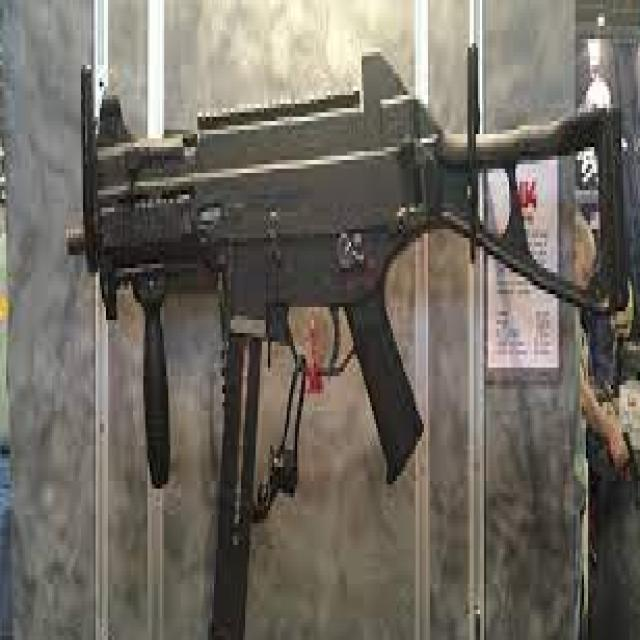Gun: (50, 56, 634, 640)
